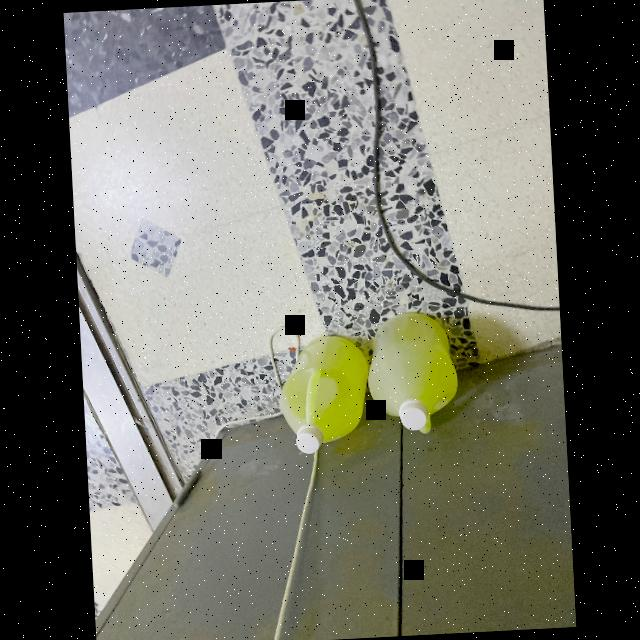chemical_plastic_gallon: (265, 321, 383, 473), (361, 307, 482, 441)
